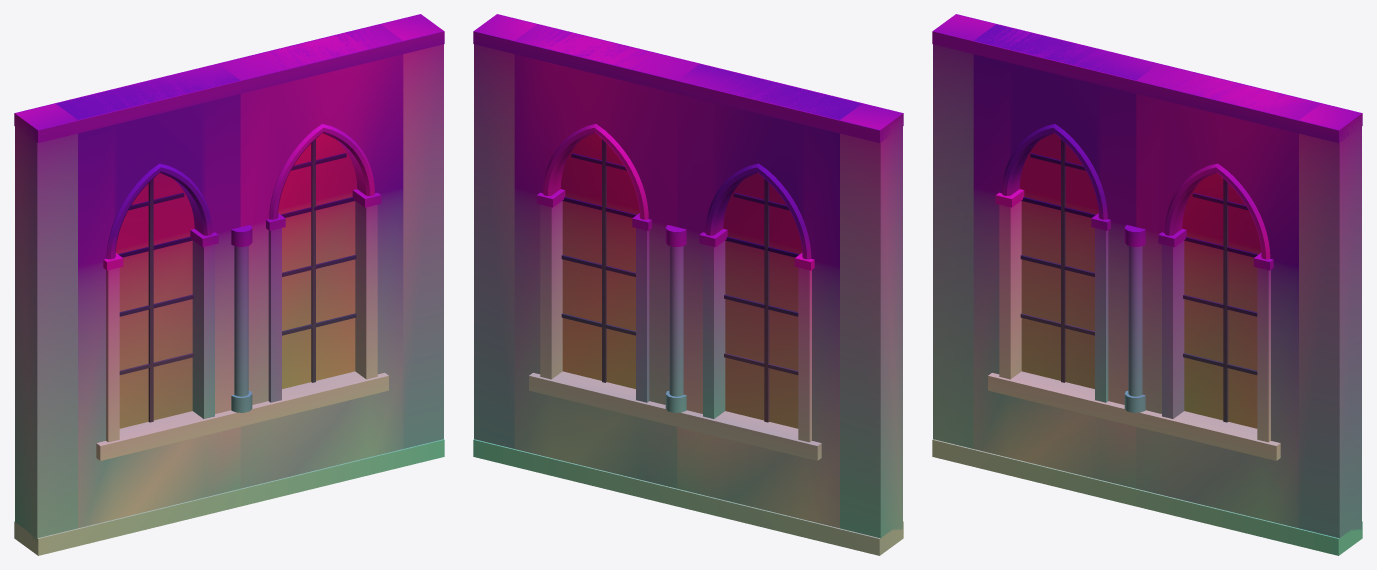
Rendered from parish_window_4m.glb.
The picture shows the model from 3 angles, left to right: view 1: azimuth 30°, elevation 25°; view 2: azimuth 150°, elevation 25°; view 3: azimuth 330°, elevation 25°; orthographic projection.
Parts seen in each view (by area): view 1: wall, trim, parish_win_r, parish_win_l, panes, window_bars, parish_win_arch_l, parish_win_arch_r; view 2: wall, trim, parish_win_r, parish_win_l, panes, window_bars, parish_win_arch_l, parish_win_arch_r; view 3: wall, trim, parish_win_l, parish_win_r, panes, window_bars, parish_win_arch_r, parish_win_arch_l.
Part boxes in pixels (bbox=[...]): wall: bbox=[15, 14, 443, 542]; trim: bbox=[14, 14, 444, 555]; parish_win_r: bbox=[218, 24, 403, 488]; parish_win_l: bbox=[56, 64, 240, 528]; panes: bbox=[115, 133, 357, 428]; window_bars: bbox=[118, 139, 356, 422]; parish_win_arch_l: bbox=[106, 163, 212, 259]; parish_win_arch_r: bbox=[269, 124, 374, 219]; wall: bbox=[474, 14, 902, 538]; trim: bbox=[473, 14, 903, 555]; parish_win_r: bbox=[514, 24, 699, 488]; parish_win_l: bbox=[677, 64, 861, 528]; panes: bbox=[560, 133, 802, 428]; window_bars: bbox=[561, 139, 799, 422]; parish_win_arch_l: bbox=[705, 163, 811, 259]; parish_win_arch_r: bbox=[543, 124, 648, 219]; wall: bbox=[933, 14, 1361, 538]; trim: bbox=[932, 14, 1362, 555]; parish_win_l: bbox=[973, 24, 1158, 488]; parish_win_r: bbox=[1136, 64, 1320, 528]; panes: bbox=[1019, 133, 1261, 428]; window_bars: bbox=[1020, 139, 1258, 422]; parish_win_arch_r: bbox=[1164, 163, 1270, 259]; parish_win_arch_l: bbox=[1002, 124, 1107, 219].
Bounding box in the file's own units: 4 × 4 × 0.5807.
